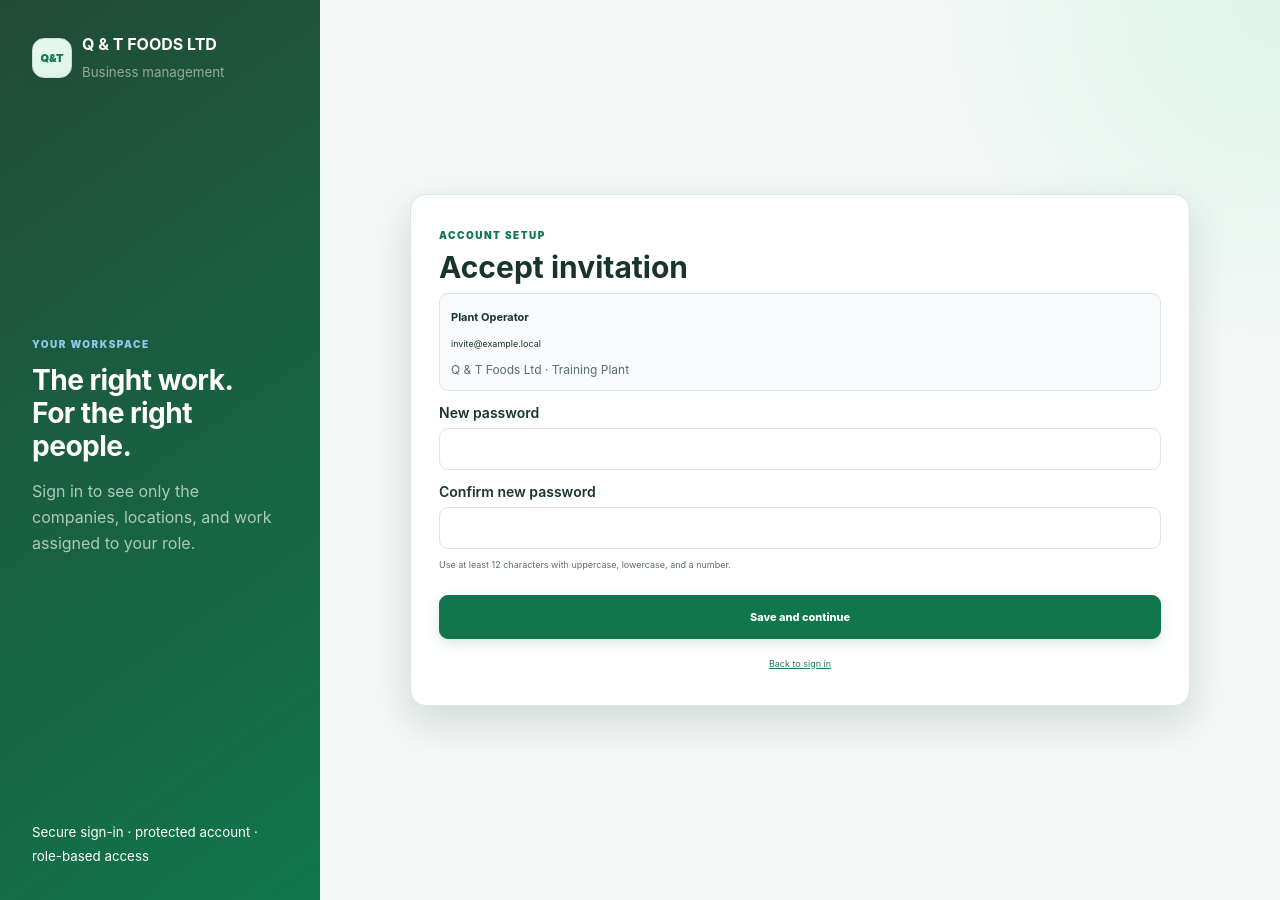
Test: identity access flows › loads invitation metadata and completes the one-time password ceremony
Expected: the text "Plant Operator" is shown, x1=451 y1=310 x2=529 y2=324
Type "InvitationPass123" into the password field labelled "New password".
click(800, 449); type("InvitationPass123")  # box x1=439 y1=428 x2=1161 y2=470
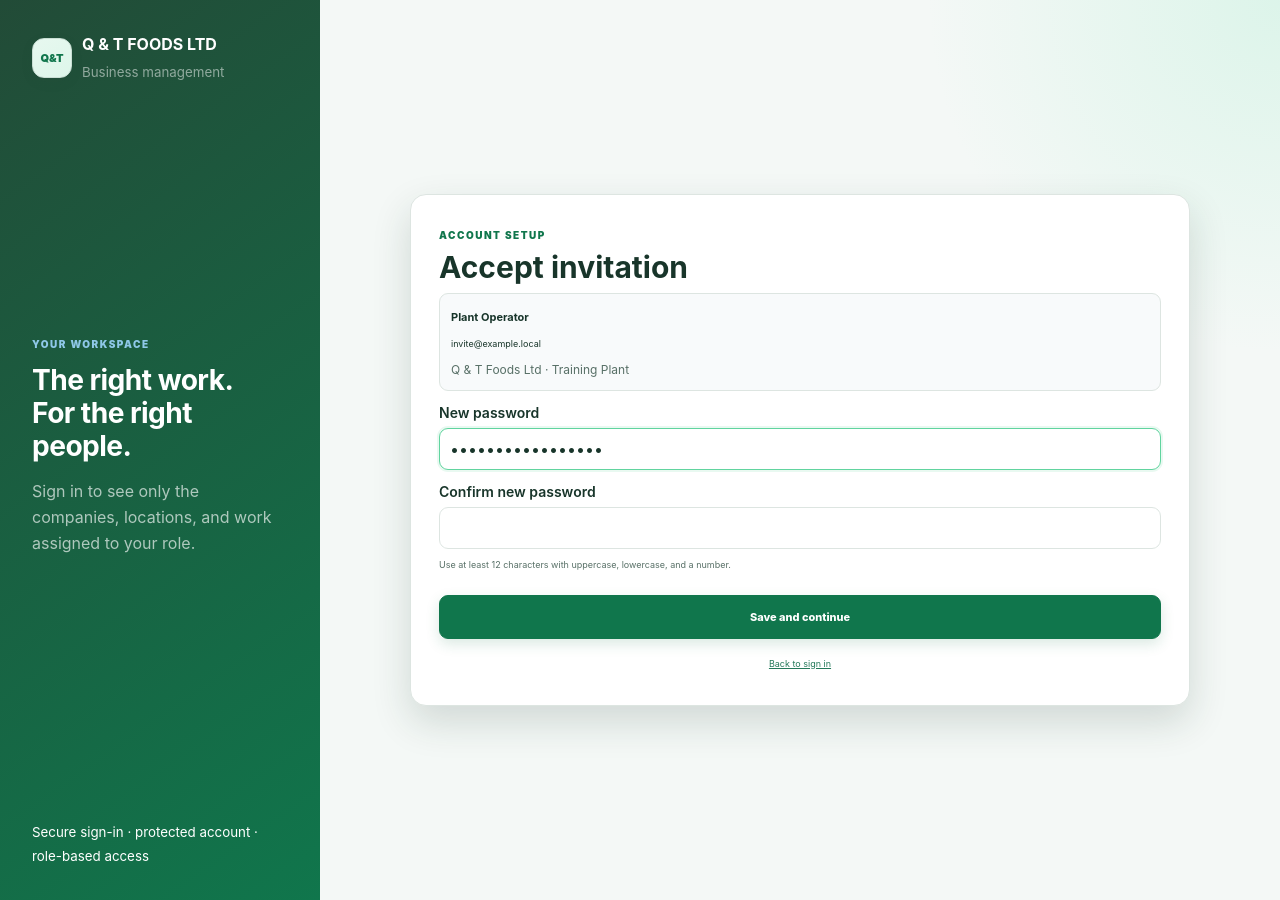
Type "InvitationPass123" into the password field labelled "Confirm new password".
click(800, 528); type("InvitationPass123")  # box x1=439 y1=507 x2=1161 y2=549
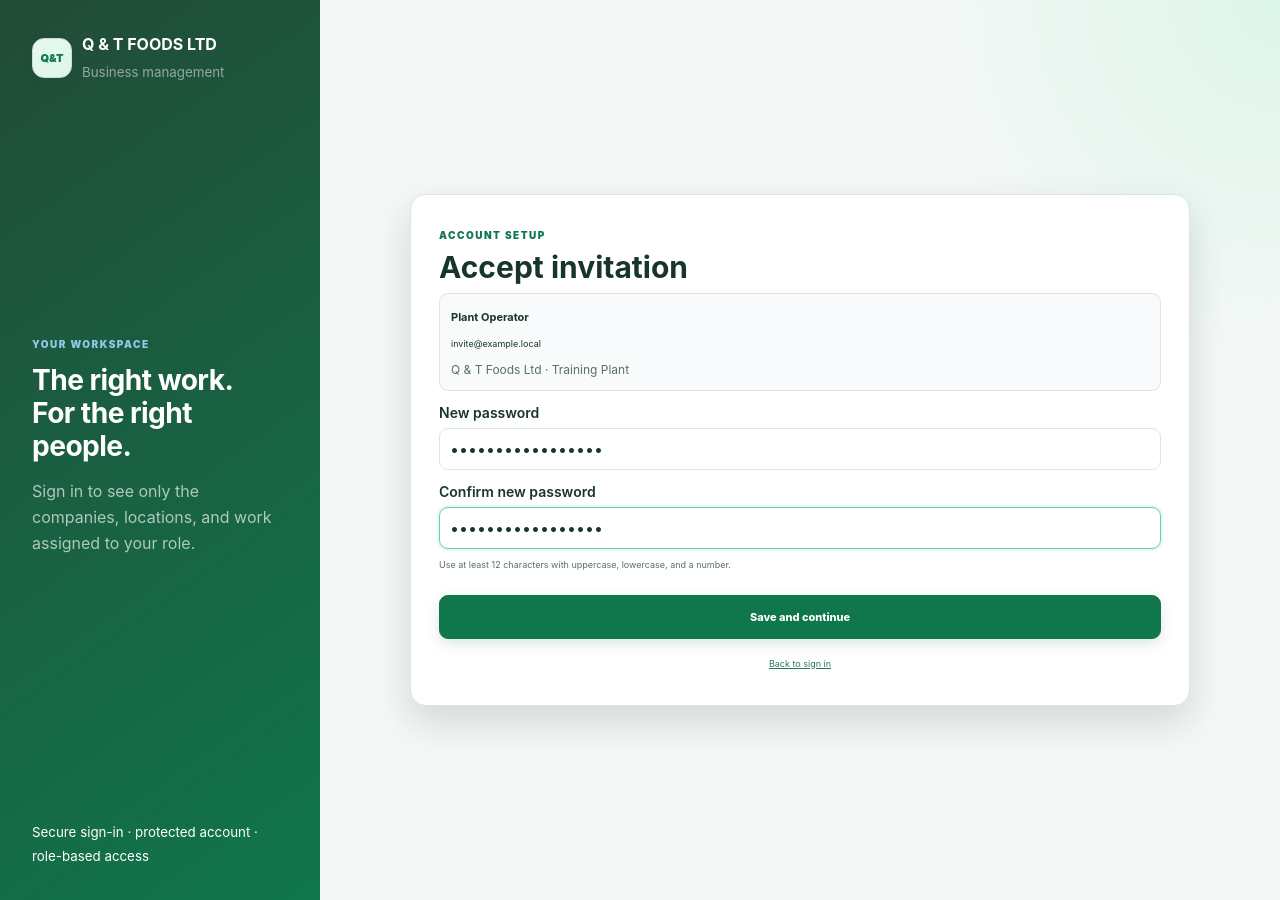
Click the button "Save and continue".
click(800, 617)  # box x1=439 y1=595 x2=1161 y2=639
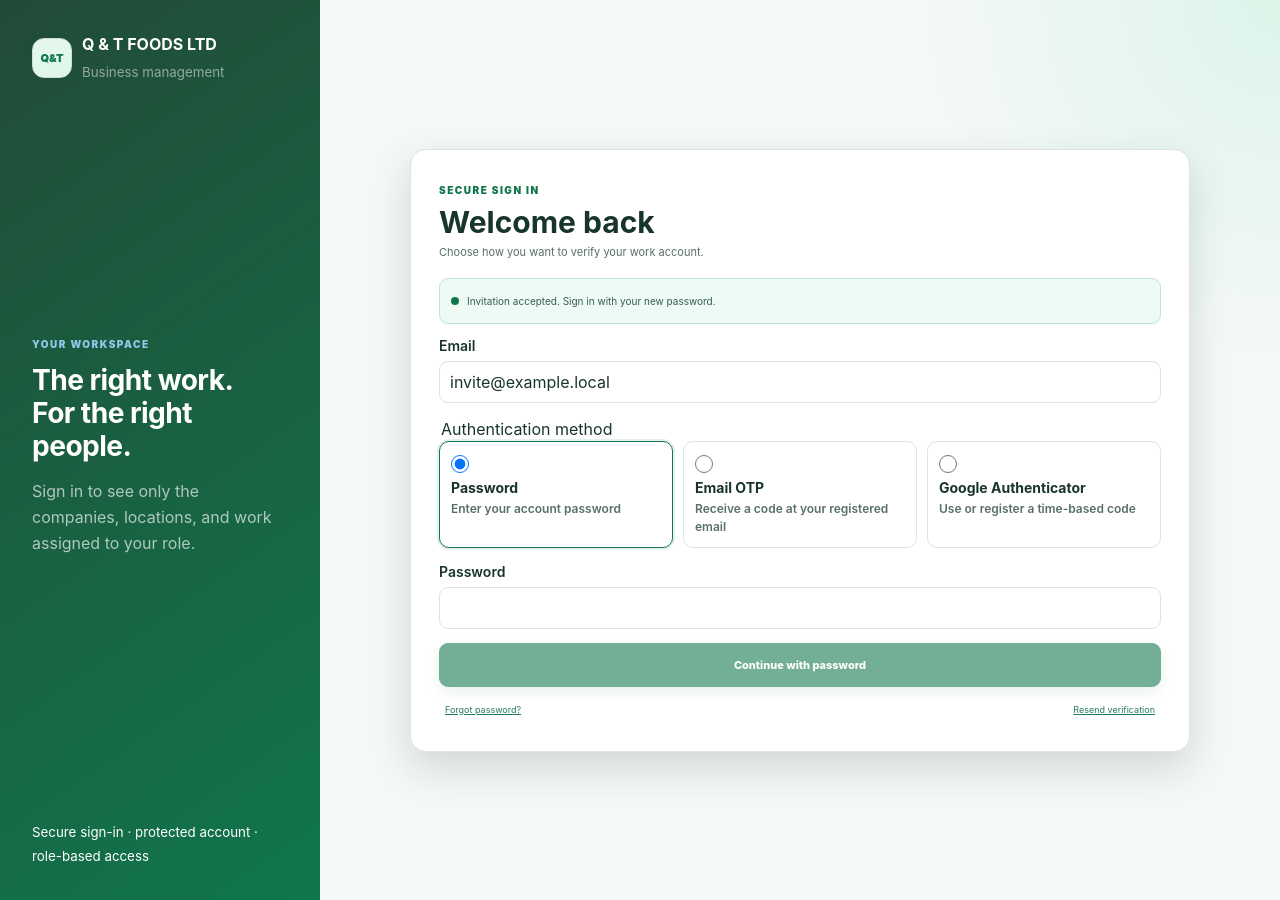
Expected: the message shows "Invitation accepted", x1=467 y1=294 x2=716 y2=306
Expected: the heading "Welcome back" is shown, x1=439 y1=204 x2=655 y2=240
